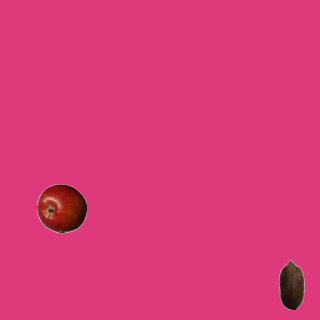Apple Braeburn: (36, 183, 86, 233)
Nut Pecan: (266, 259, 316, 309)
